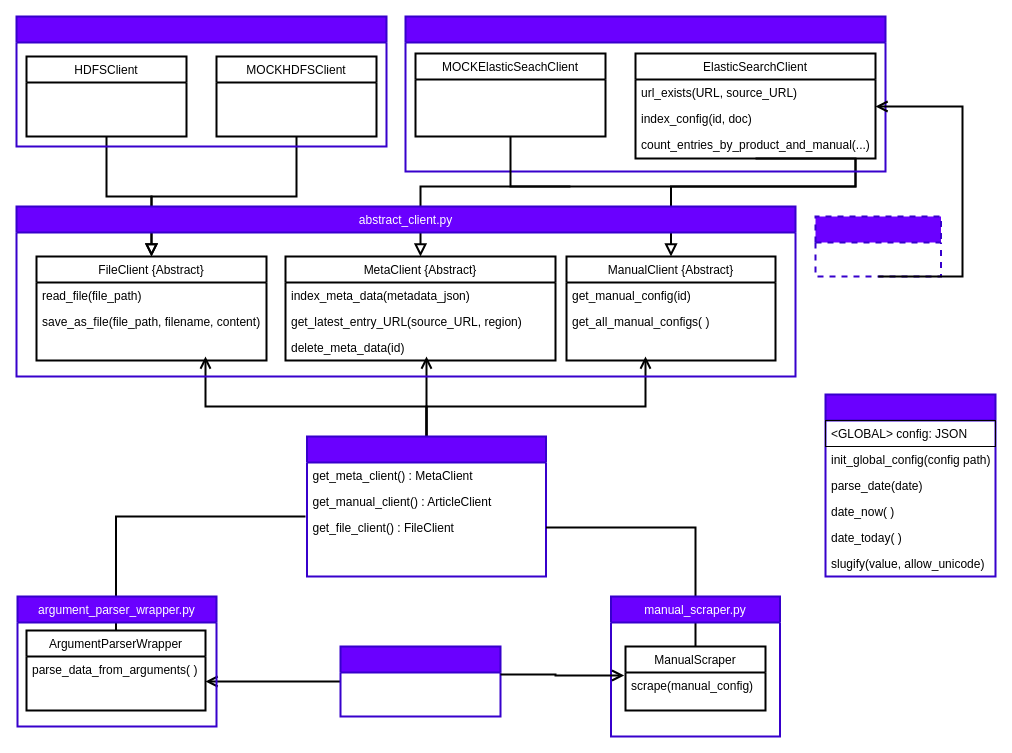
Some shapes in this 1012 by 753 pixel diagram are drawn without their labels. Here are the shapes that lost their labels. From the top down, the box of each, then its label:
(15, 15, 387, 147): hdfs_client.py
(404, 15, 886, 172): elastic_search_client.py
(814, 215, 942, 277): indexer.py
(824, 393, 996, 577): utils.py
(306, 435, 546, 577): client_factory.py
(339, 645, 501, 717): main.py
